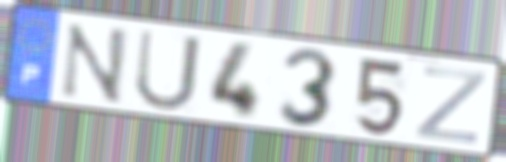3: (277, 46, 341, 131)
4: (206, 39, 267, 124)
5: (352, 54, 410, 138)
N: (57, 21, 132, 107)
U: (132, 27, 204, 114)
Z: (412, 63, 490, 147)
